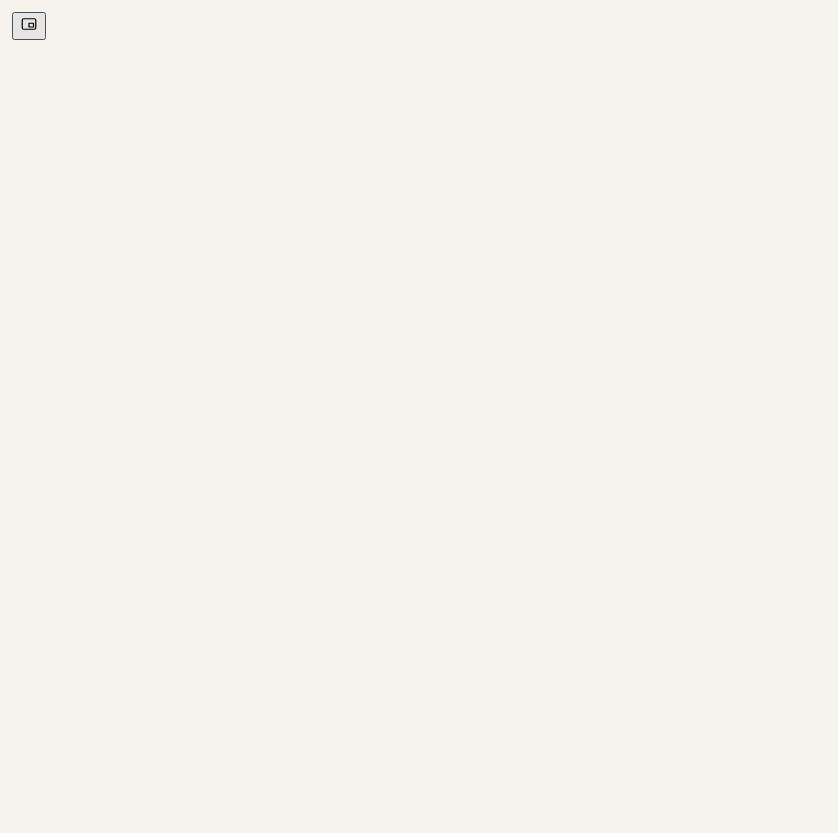
Test: requires a selected track and reports insecure connections
Later steps or results of the test are not shown.
Click the button named "悬浮歌词".
click(29, 26)  # box [12, 12, 46, 40]
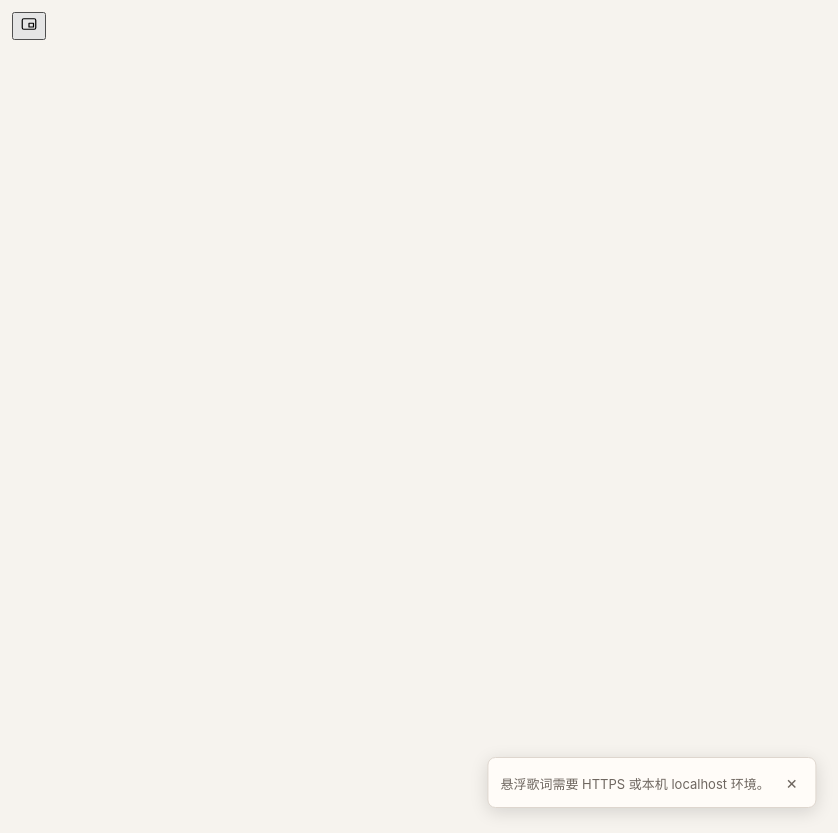
Expected: the message shows "HTTPS", [500, 776, 770, 792]
